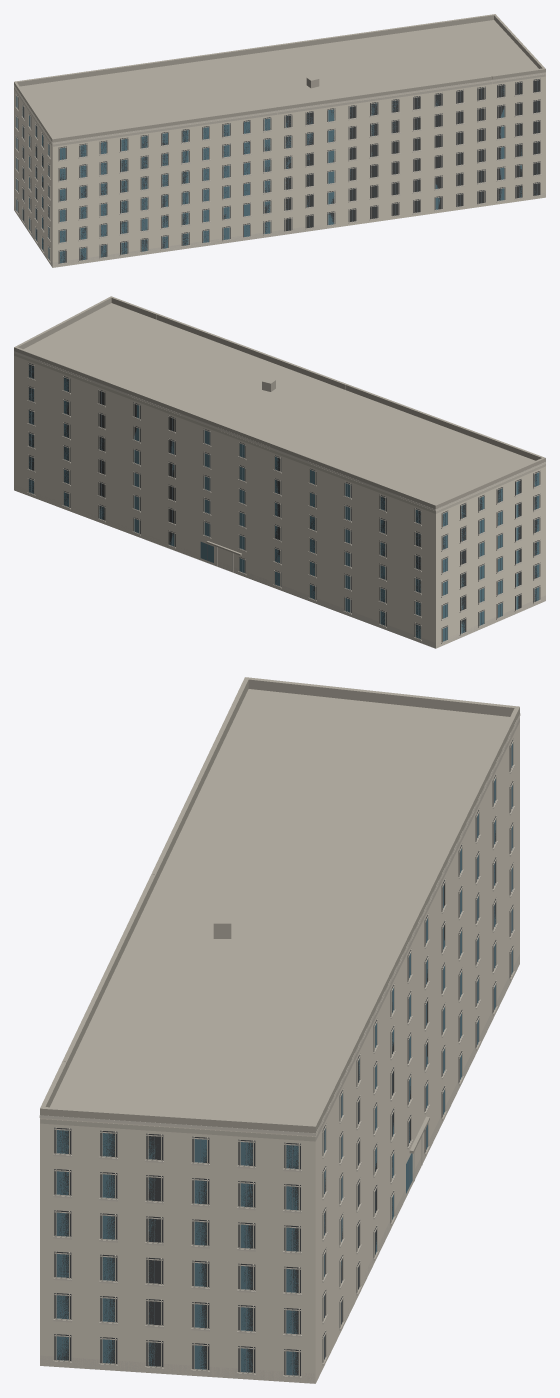
The model's file is cop_equipamento_especial_02__way_1041756195.fbx.
3 views of the same model, one above another, from view 1: azimuth 30°, elevation 25°; view 2: azimuth 150°, elevation 25°; view 3: azimuth 270°, elevation 25° (orthographic). The views are drawn at different scales.
Visible parts, largest first — view 1: cop_equipamento_especial_02__way_1041756195_wall, cop_equipamento_especial_02__way_1041756195_roof, cop_equipamento_especial_02__way_1041756195_shadow, cop_equipamento_especial_02__way_1041756195_trim, cop_equipamento_especial_02__way_1041756195_glass, cop_equipamento_especial_02__way_1041756195_stone, cop_equipamento_especial_02__way_1041756195_metal; view 2: cop_equipamento_especial_02__way_1041756195_wall, cop_equipamento_especial_02__way_1041756195_roof, cop_equipamento_especial_02__way_1041756195_trim, cop_equipamento_especial_02__way_1041756195_shadow, cop_equipamento_especial_02__way_1041756195_glass, cop_equipamento_especial_02__way_1041756195_stone, cop_equipamento_especial_02__way_1041756195_metal; view 3: cop_equipamento_especial_02__way_1041756195_roof, cop_equipamento_especial_02__way_1041756195_wall, cop_equipamento_especial_02__way_1041756195_shadow, cop_equipamento_especial_02__way_1041756195_trim, cop_equipamento_especial_02__way_1041756195_glass, cop_equipamento_especial_02__way_1041756195_stone, cop_equipamento_especial_02__way_1041756195_metal.
Boxes of the visible parts, left/top/right/bottom form: cop_equipamento_especial_02__way_1041756195_wall: left=14, top=73, right=545, bottom=267; cop_equipamento_especial_02__way_1041756195_roof: left=14, top=14, right=545, bottom=142; cop_equipamento_especial_02__way_1041756195_shadow: left=16, top=78, right=540, bottom=263; cop_equipamento_especial_02__way_1041756195_trim: left=14, top=74, right=545, bottom=263; cop_equipamento_especial_02__way_1041756195_glass: left=16, top=84, right=536, bottom=263; cop_equipamento_especial_02__way_1041756195_stone: left=14, top=72, right=545, bottom=267; cop_equipamento_especial_02__way_1041756195_metal: left=17, top=80, right=537, bottom=262; cop_equipamento_especial_02__way_1041756195_wall: left=14, top=352, right=545, bottom=648; cop_equipamento_especial_02__way_1041756195_roof: left=14, top=296, right=545, bottom=555; cop_equipamento_especial_02__way_1041756195_trim: left=14, top=353, right=545, bottom=642; cop_equipamento_especial_02__way_1041756195_shadow: left=28, top=363, right=540, bottom=642; cop_equipamento_especial_02__way_1041756195_glass: left=29, top=364, right=539, bottom=641; cop_equipamento_especial_02__way_1041756195_stone: left=14, top=351, right=545, bottom=648; cop_equipamento_especial_02__way_1041756195_metal: left=31, top=365, right=536, bottom=640; cop_equipamento_especial_02__way_1041756195_roof: left=40, top=677, right=519, bottom=1153; cop_equipamento_especial_02__way_1041756195_wall: left=40, top=717, right=519, bottom=1383; cop_equipamento_especial_02__way_1041756195_shadow: left=54, top=740, right=513, bottom=1375; cop_equipamento_especial_02__way_1041756195_trim: left=40, top=717, right=519, bottom=1376; cop_equipamento_especial_02__way_1041756195_glass: left=56, top=743, right=512, bottom=1375; cop_equipamento_especial_02__way_1041756195_stone: left=39, top=713, right=520, bottom=1383; cop_equipamento_especial_02__way_1041756195_metal: left=62, top=745, right=512, bottom=1375.
Bounding box in the file's own units: 7002 × 1912 × 3162.
